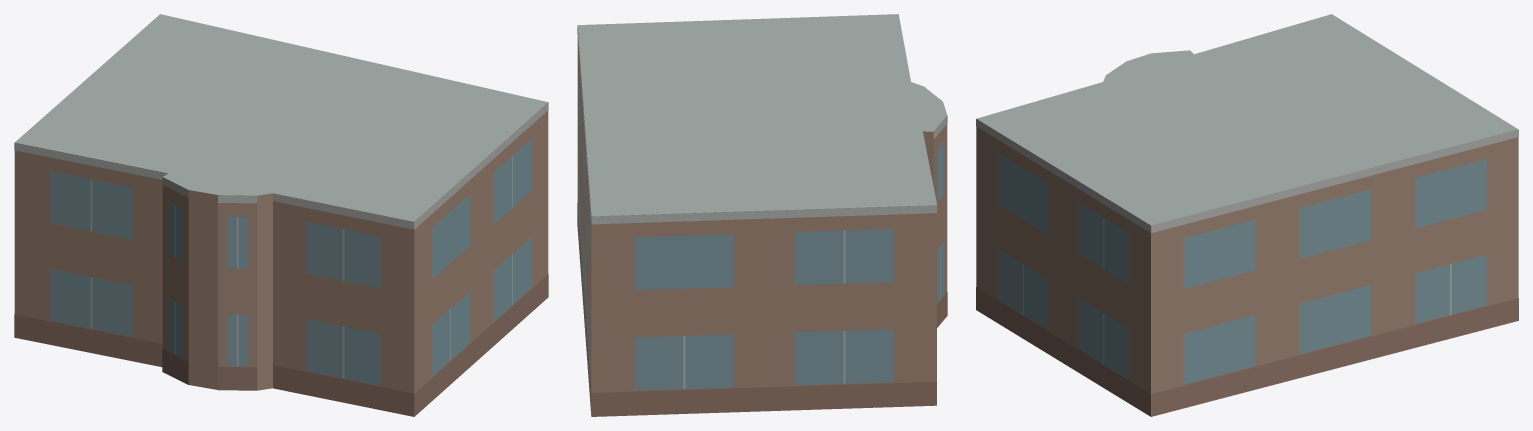
Rendered from survey-upis-32888657.glb.
3 views of the same model, side by side, from view 1: azimuth 30°, elevation 25°; view 2: azimuth 150°, elevation 25°; view 3: azimuth 270°, elevation 25° (orthographic). The views are drawn at different scales.
Visible parts, largest first — view 1: survey-upis-32888657.tmp; view 2: survey-upis-32888657.tmp; view 3: survey-upis-32888657.tmp.
Boxes of the visible parts, x1,y1,x2,y2 form: survey-upis-32888657.tmp: (14, 14, 548, 416); survey-upis-32888657.tmp: (577, 14, 947, 416); survey-upis-32888657.tmp: (976, 14, 1518, 416).
Size of the model in its own units: 14.47 by 6.1 by 15.69.
